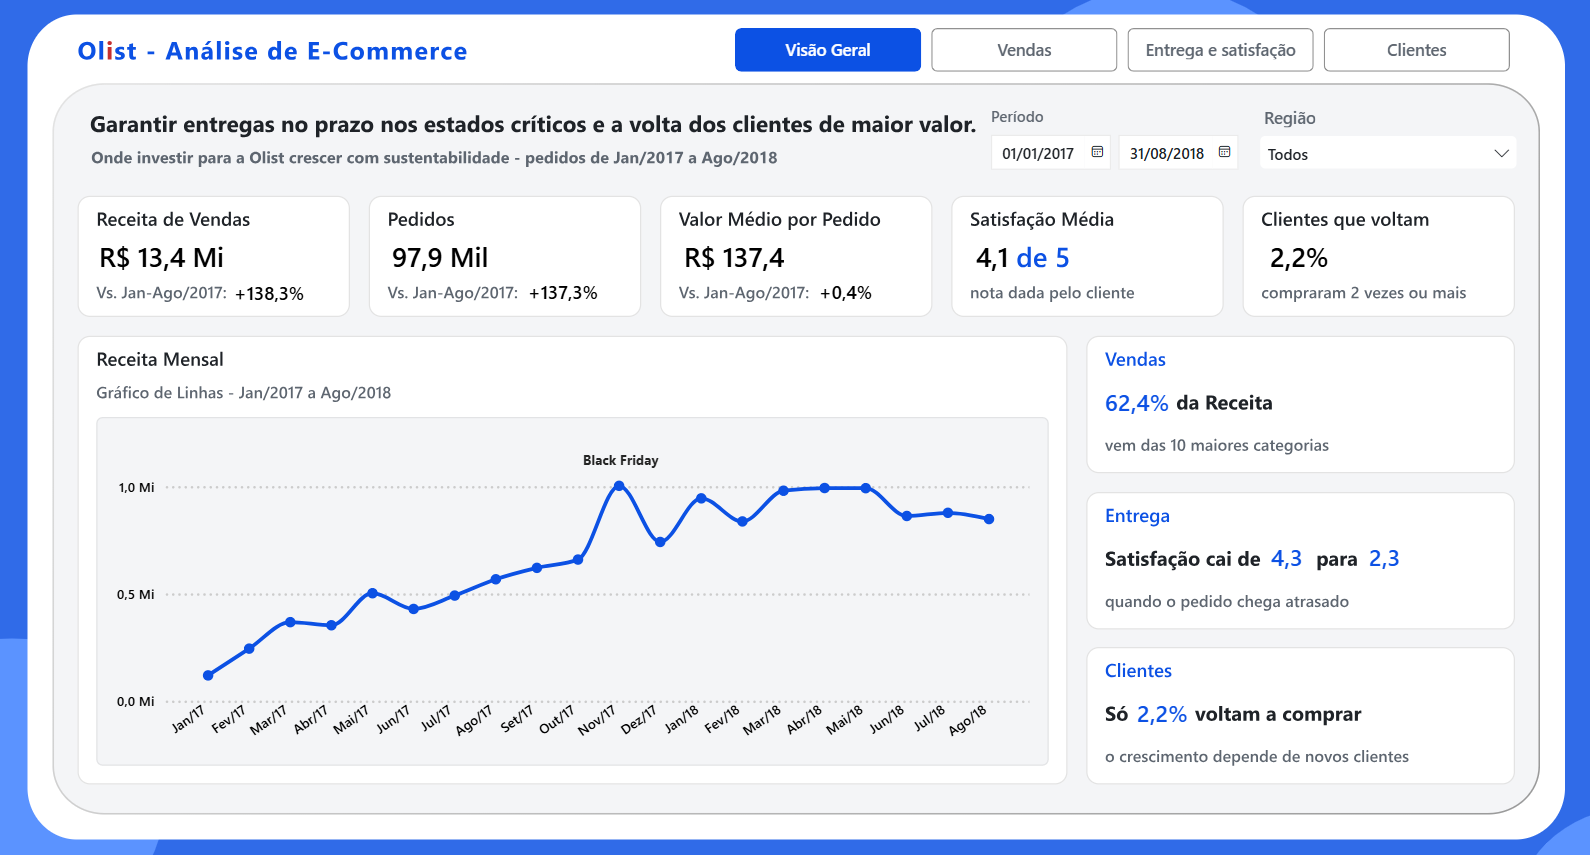

This screenshot's page, from the dashboard's own definition file:
{"tool":"powerbi","page":{"name":"Visão Geral","canvas":[1280,720],"ordinal":0},"visuals":[{"type":"listSlicer","fields":{"Values":["dClientes.customer_city"]},"box":[1524.6,140.6,219.3,100.4],"z":0},{"type":"listSlicer","fields":{"Values":["dClientes.customer_state"]},"box":[1482.9,23.2,261,100.4],"z":1000},{"type":"lineChart","fields":{"Category":["dCalendario.Mês/Ano"],"Y":["Medidas.Receita"]},"box":[81.7,350.5,762.5,278.9],"z":2000},{"type":"cardVisual","fields":{"Data":["Medidas.Receita"]},"box":[66.9,205,145,35],"z":3000},{"type":"cardVisual","fields":{"Data":["Medidas.Pedidos"]},"box":[301.4,205,145,35],"z":4000},{"type":"cardVisual","fields":{"Data":["Medidas.Valor médio por pedido"]},"box":[535.5,205,145,35],"z":5000},{"type":"cardVisual","fields":{"Data":["Medidas.Satisfação média"]},"box":[768.9,205,145,35],"z":6000},{"type":"cardVisual","fields":{"Data":["Medidas.% Clientes que voltam"]},"box":[1003.9,205,145,35],"z":7000},{"type":"pageNavigator","box":[592.2,41.1,623.8,35.3],"z":8000},{"type":"slicer","fields":{"Values":["dUF.regiao"]},"box":[1007.1,103.1,215.1,60.4],"z":9000},{"type":"slicer","fields":{"Values":["dCalendario.Data"]},"box":[788.4,103.1,217.8,60.4],"z":10000},{"type":"cardVisual","fields":{"Data":["Medidas.Var. receita jan-ago"]},"box":[175,239,110,25],"z":11000},{"type":"cardVisual","fields":{"Data":["Medidas.Var. pedidos jan-ago"]},"box":[410.1,239,110,24.5],"z":12000},{"type":"cardVisual","fields":{"Data":["Medidas.Var. valor médio jan-ago"]},"box":[643.3,239,110,24.5],"z":13000},{"type":"cardVisual","fields":{"Data":["Medidas.% Receita top 10 categorias"]},"box":[872,322,102.7,35.6],"z":14000},{"type":"cardVisual","fields":{"Data":["Medidas.Satisfação – no prazo"]},"box":[1004.9,446,80,35],"z":15000},{"type":"cardVisual","fields":{"Data":["Medidas.Satisfação – com atraso"]},"box":[1083.2,446,80,35],"z":16000},{"type":"cardVisual","fields":{"Data":["Medidas.% Clientes que voltam"]},"box":[897.9,571.2,80.2,35.3],"z":17000},{"type":"textbox","box":[467.1,375.4,66.9,22.9],"z":18000}]}

Visuals, with their boxes on the page's 1280x720 design canvas (x1, y1, x2, y2). These are canvas units, not pixel positions in the 1590x855 screenshot, which may show the page scaled, cropped or inside an application window:
listSlicer - dClientes.customer_city: bbox=[1525, 141, 1744, 241]
listSlicer - dClientes.customer_state: bbox=[1483, 23, 1744, 124]
lineChart - dCalendario.Mês/Ano x Medidas.Receita: bbox=[82, 350, 844, 629]
cardVisual - Medidas.Receita: bbox=[67, 205, 212, 240]
cardVisual - Medidas.Pedidos: bbox=[301, 205, 446, 240]
cardVisual - Medidas.Valor médio por pedido: bbox=[536, 205, 680, 240]
cardVisual - Medidas.Satisfação média: bbox=[769, 205, 914, 240]
cardVisual - Medidas.% Clientes que voltam: bbox=[1004, 205, 1149, 240]
pageNavigator: bbox=[592, 41, 1216, 76]
slicer - dUF.regiao: bbox=[1007, 103, 1222, 164]
slicer - dCalendario.Data: bbox=[788, 103, 1006, 164]
cardVisual - Medidas.Var. receita jan-ago: bbox=[175, 239, 285, 264]
cardVisual - Medidas.Var. pedidos jan-ago: bbox=[410, 239, 520, 264]
cardVisual - Medidas.Var. valor médio jan-ago: bbox=[643, 239, 753, 264]
cardVisual - Medidas.% Receita top 10 categorias: bbox=[872, 322, 975, 358]
cardVisual - Medidas.Satisfação – no prazo: bbox=[1005, 446, 1085, 481]
cardVisual - Medidas.Satisfação – com atraso: bbox=[1083, 446, 1163, 481]
cardVisual - Medidas.% Clientes que voltam: bbox=[898, 571, 978, 606]
textbox: bbox=[467, 375, 534, 398]
